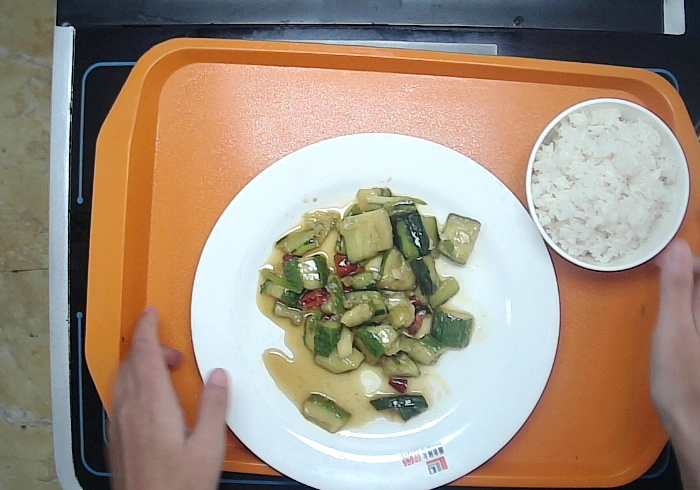ZNLD-Da_Yuan_Pan: (189, 131, 564, 490)
ZNLD-Fan_Wan: (525, 96, 688, 272)
